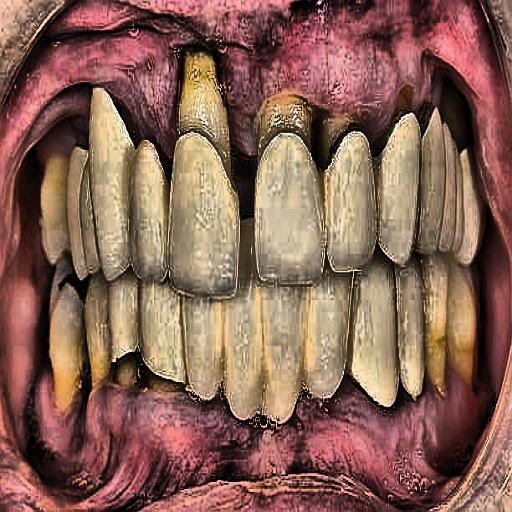Calculus: (166, 7, 426, 229), (41, 320, 194, 417), (413, 305, 499, 412)
